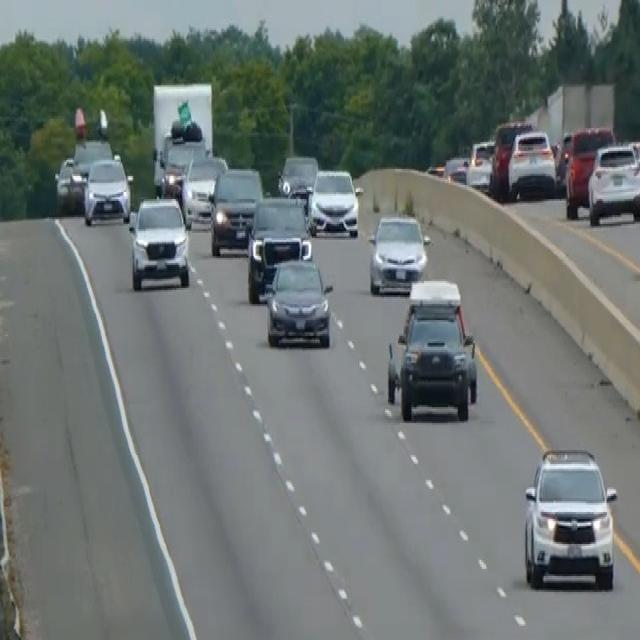car: (385, 277, 478, 423), (245, 194, 312, 302), (263, 254, 333, 348), (127, 194, 190, 290), (367, 210, 429, 295), (208, 164, 263, 256), (563, 123, 615, 215), (587, 138, 639, 225), (180, 151, 228, 228), (308, 166, 359, 238), (507, 126, 556, 199), (82, 154, 131, 226), (490, 118, 533, 196), (161, 137, 207, 195), (277, 151, 318, 199), (72, 137, 113, 178), (54, 154, 84, 210), (465, 137, 495, 192), (442, 153, 469, 183)
jeep: (520, 441, 619, 594)
truck: (150, 80, 214, 196)
